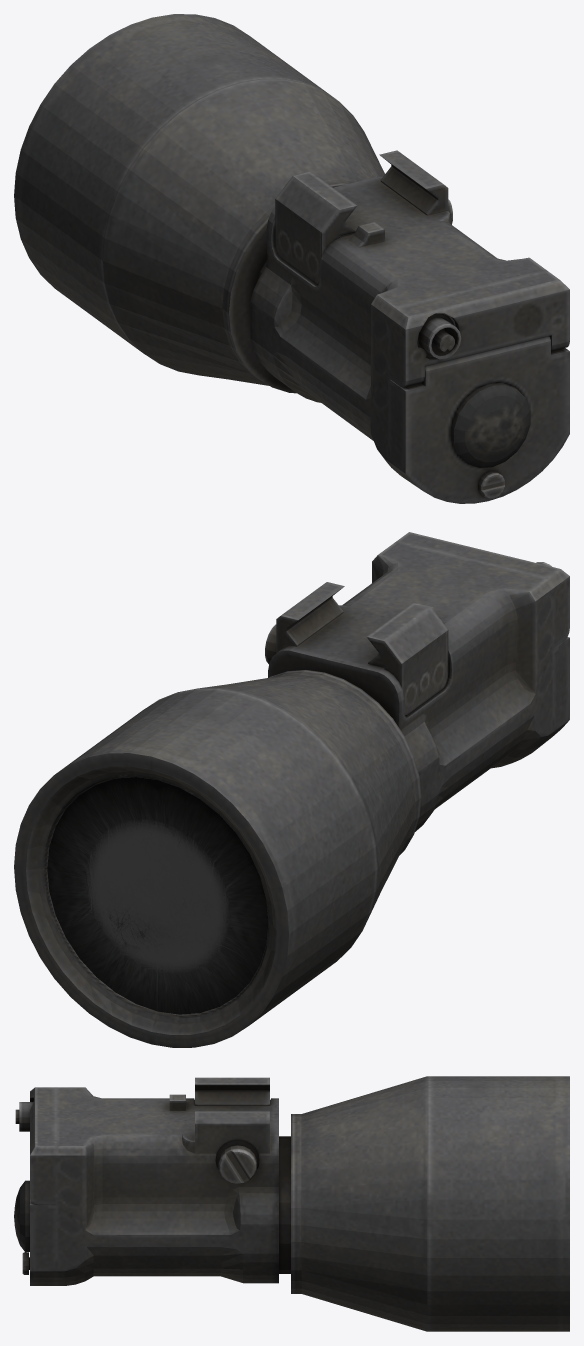
The picture shows the model from 3 angles, top to bottom: view 1: azimuth 30°, elevation 25°; view 2: azimuth 150°, elevation 25°; view 3: azimuth 270°, elevation 25°; orthographic projection. The views are drawn at different scales.
Parts seen in each view (by area): view 1: TW_5b3a337e5acfc4704b4a19a0_PZ_Import; view 2: TW_5b3a337e5acfc4704b4a19a0_PZ_Import; view 3: TW_5b3a337e5acfc4704b4a19a0_PZ_Import.
Boxes of the visible parts, x1,y1,x2,y2 form: TW_5b3a337e5acfc4704b4a19a0_PZ_Import: [14, 14, 569, 503]; TW_5b3a337e5acfc4704b4a19a0_PZ_Import: [14, 532, 569, 1047]; TW_5b3a337e5acfc4704b4a19a0_PZ_Import: [14, 1076, 569, 1331].
Bounding box in the file's own units: 0.0372 × 0.0808 × 0.0372.
Materials: 1 (1 with a texture image).
